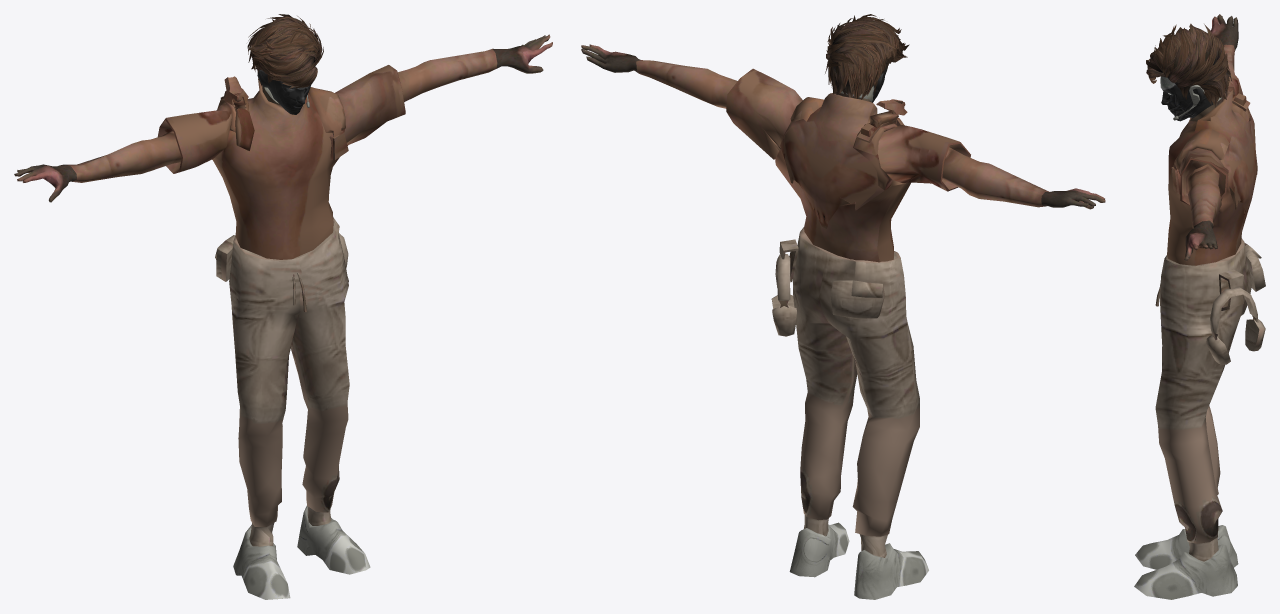
File: Wolfrah[Expressions].fbx
3 views of the same model, side by side, from view 1: azimuth 30°, elevation 25°; view 2: azimuth 150°, elevation 25°; view 3: azimuth 270°, elevation 25° (orthographic). The views are drawn at different scales.
Visible parts, largest first — view 1: wolfrah_wolfrahmesh; view 2: wolfrah_wolfrahmesh; view 3: wolfrah_wolfrahmesh.
Part boxes in pixels (x1,y1,x2,y2): wolfrah_wolfrahmesh: [14, 14, 552, 599]; wolfrah_wolfrahmesh: [581, 14, 1105, 599]; wolfrah_wolfrahmesh: [1134, 14, 1265, 599].
Size of the model in its own units: 641 by 649 by 142.
